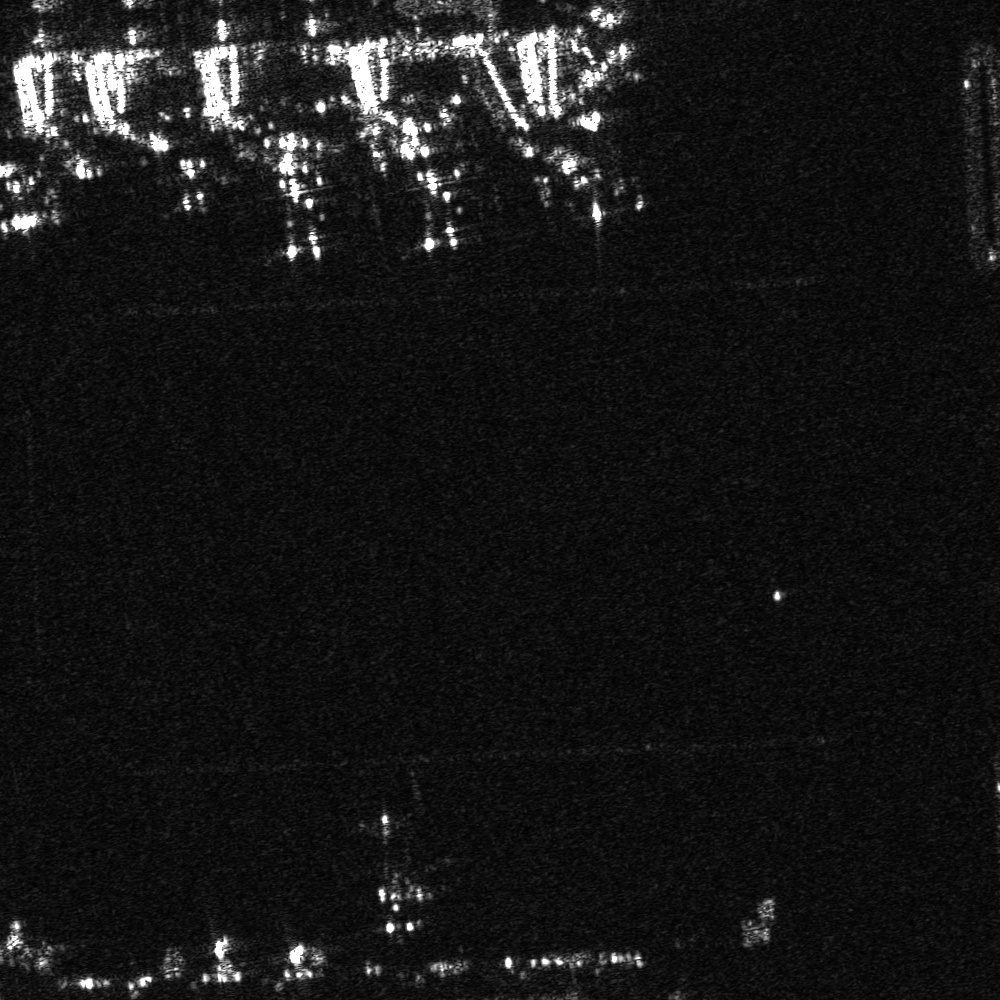A220: (152, 139, 248, 221)
Boeing737: (532, 141, 659, 230)
Boeing787: (248, 146, 338, 266), (362, 868, 443, 949)
other: (383, 138, 471, 269)
